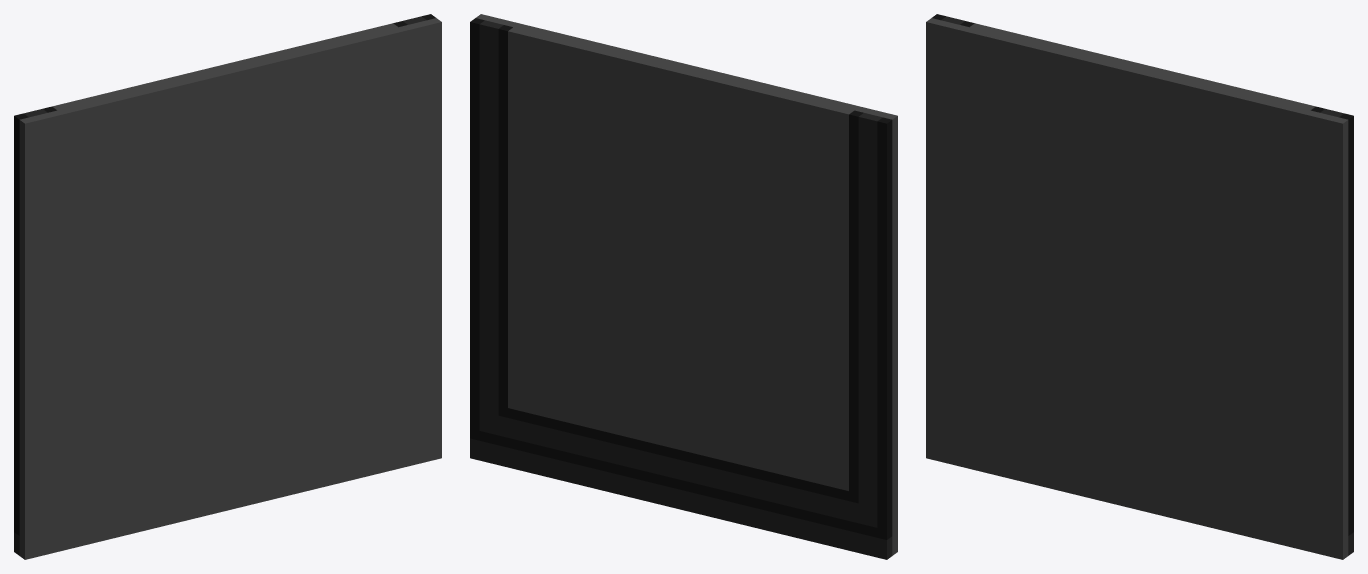
Rendered from mesh_hanger_door_frame_mid.obj.
The picture shows the model from 3 angles, left to right: view 1: azimuth 30°, elevation 25°; view 2: azimuth 150°, elevation 25°; view 3: azimuth 330°, elevation 25°; orthographic projection.
Bounding box in the file's own units: 4.4 × 4.4 × 0.2.
1 material, 1 textured.
